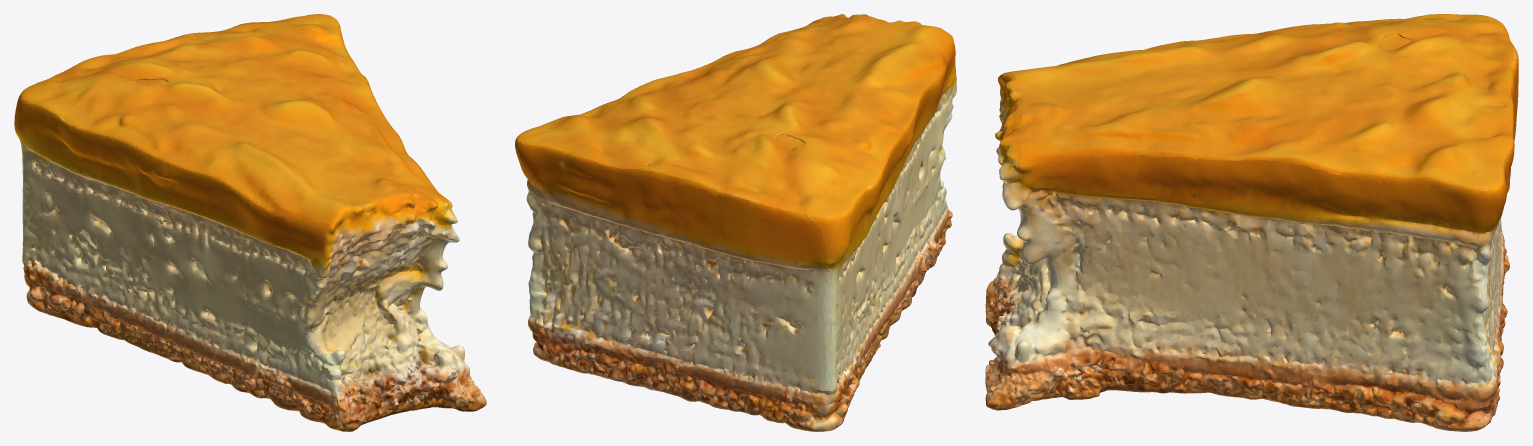
The model's file is mango-cheesecake-1.glb.
The picture shows the model from 3 angles, left to right: view 1: azimuth 30°, elevation 25°; view 2: azimuth 150°, elevation 25°; view 3: azimuth 270°, elevation 25°; orthographic projection. The views are drawn at different scales.
Parts seen in each view (by area): view 1: FoodRedoV2Alignment-0; view 2: FoodRedoV2Alignment-0; view 3: FoodRedoV2Alignment-0.
Boxes of the visible parts, <box> form: FoodRedoV2Alignment-0: <box>14,14,486,431</box>; FoodRedoV2Alignment-0: <box>515,14,956,431</box>; FoodRedoV2Alignment-0: <box>985,14,1518,431</box>.
Bounding box in the file's own units: 0.1001 × 0.074 × 0.1245.
1 material, 1 textured.
